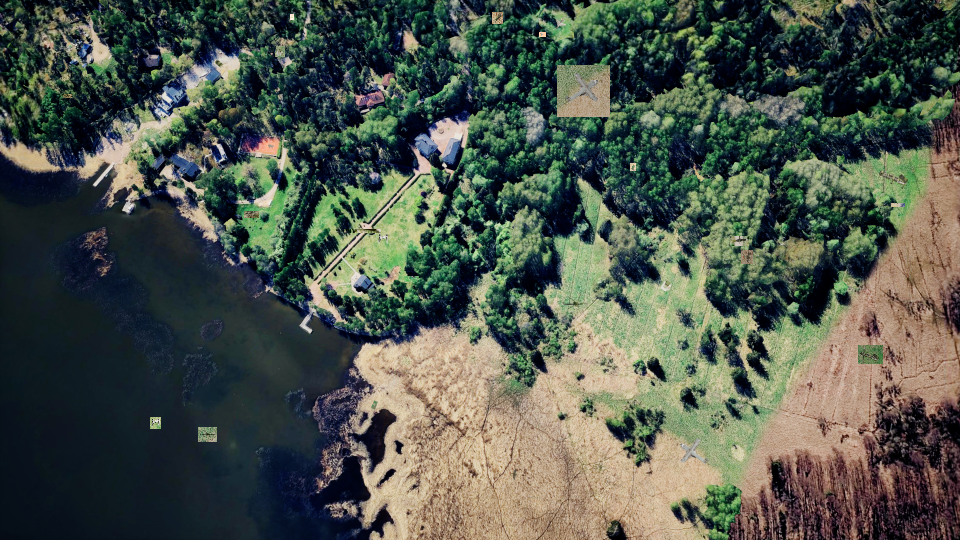condor: (557, 65, 610, 117)
hangar: (344, 229, 381, 233)
helicopter: (198, 427, 217, 442)
jammer: (630, 163, 636, 171)
jet_plane: (404, 276, 419, 282)
large_launcher: (858, 345, 883, 364)
large_tower: (244, 211, 259, 218)
medium_launcher: (63, 94, 72, 98)
medium_plane: (730, 236, 749, 246)
mine_roller: (492, 12, 503, 24)
small_launcher: (290, 14, 294, 20)
small_plane: (741, 250, 753, 264)
small_tower: (275, 46, 285, 57)
spacecraft: (150, 417, 161, 429)
ta-ta: (539, 32, 546, 37)
tank: (891, 203, 905, 207)
